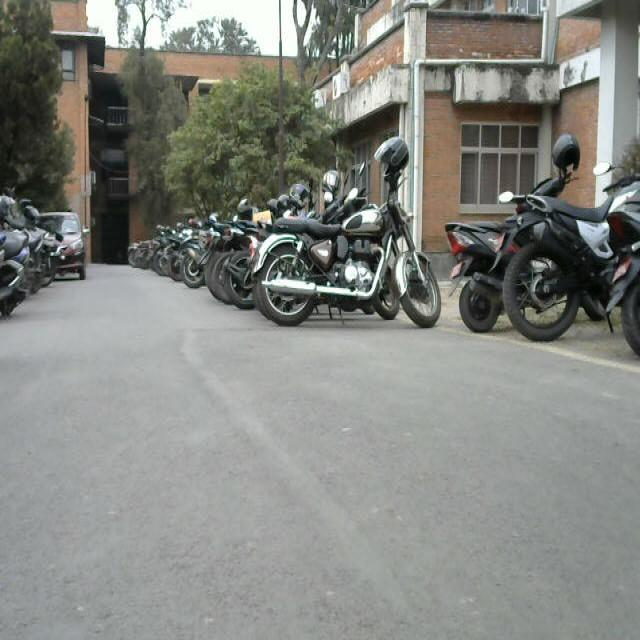Bike: (126, 208, 436, 328), (465, 170, 634, 353), (0, 189, 59, 321)
Buildings: (351, 8, 621, 222)
Road: (33, 282, 640, 640)
trees: (166, 73, 352, 218), (76, 93, 106, 294)
